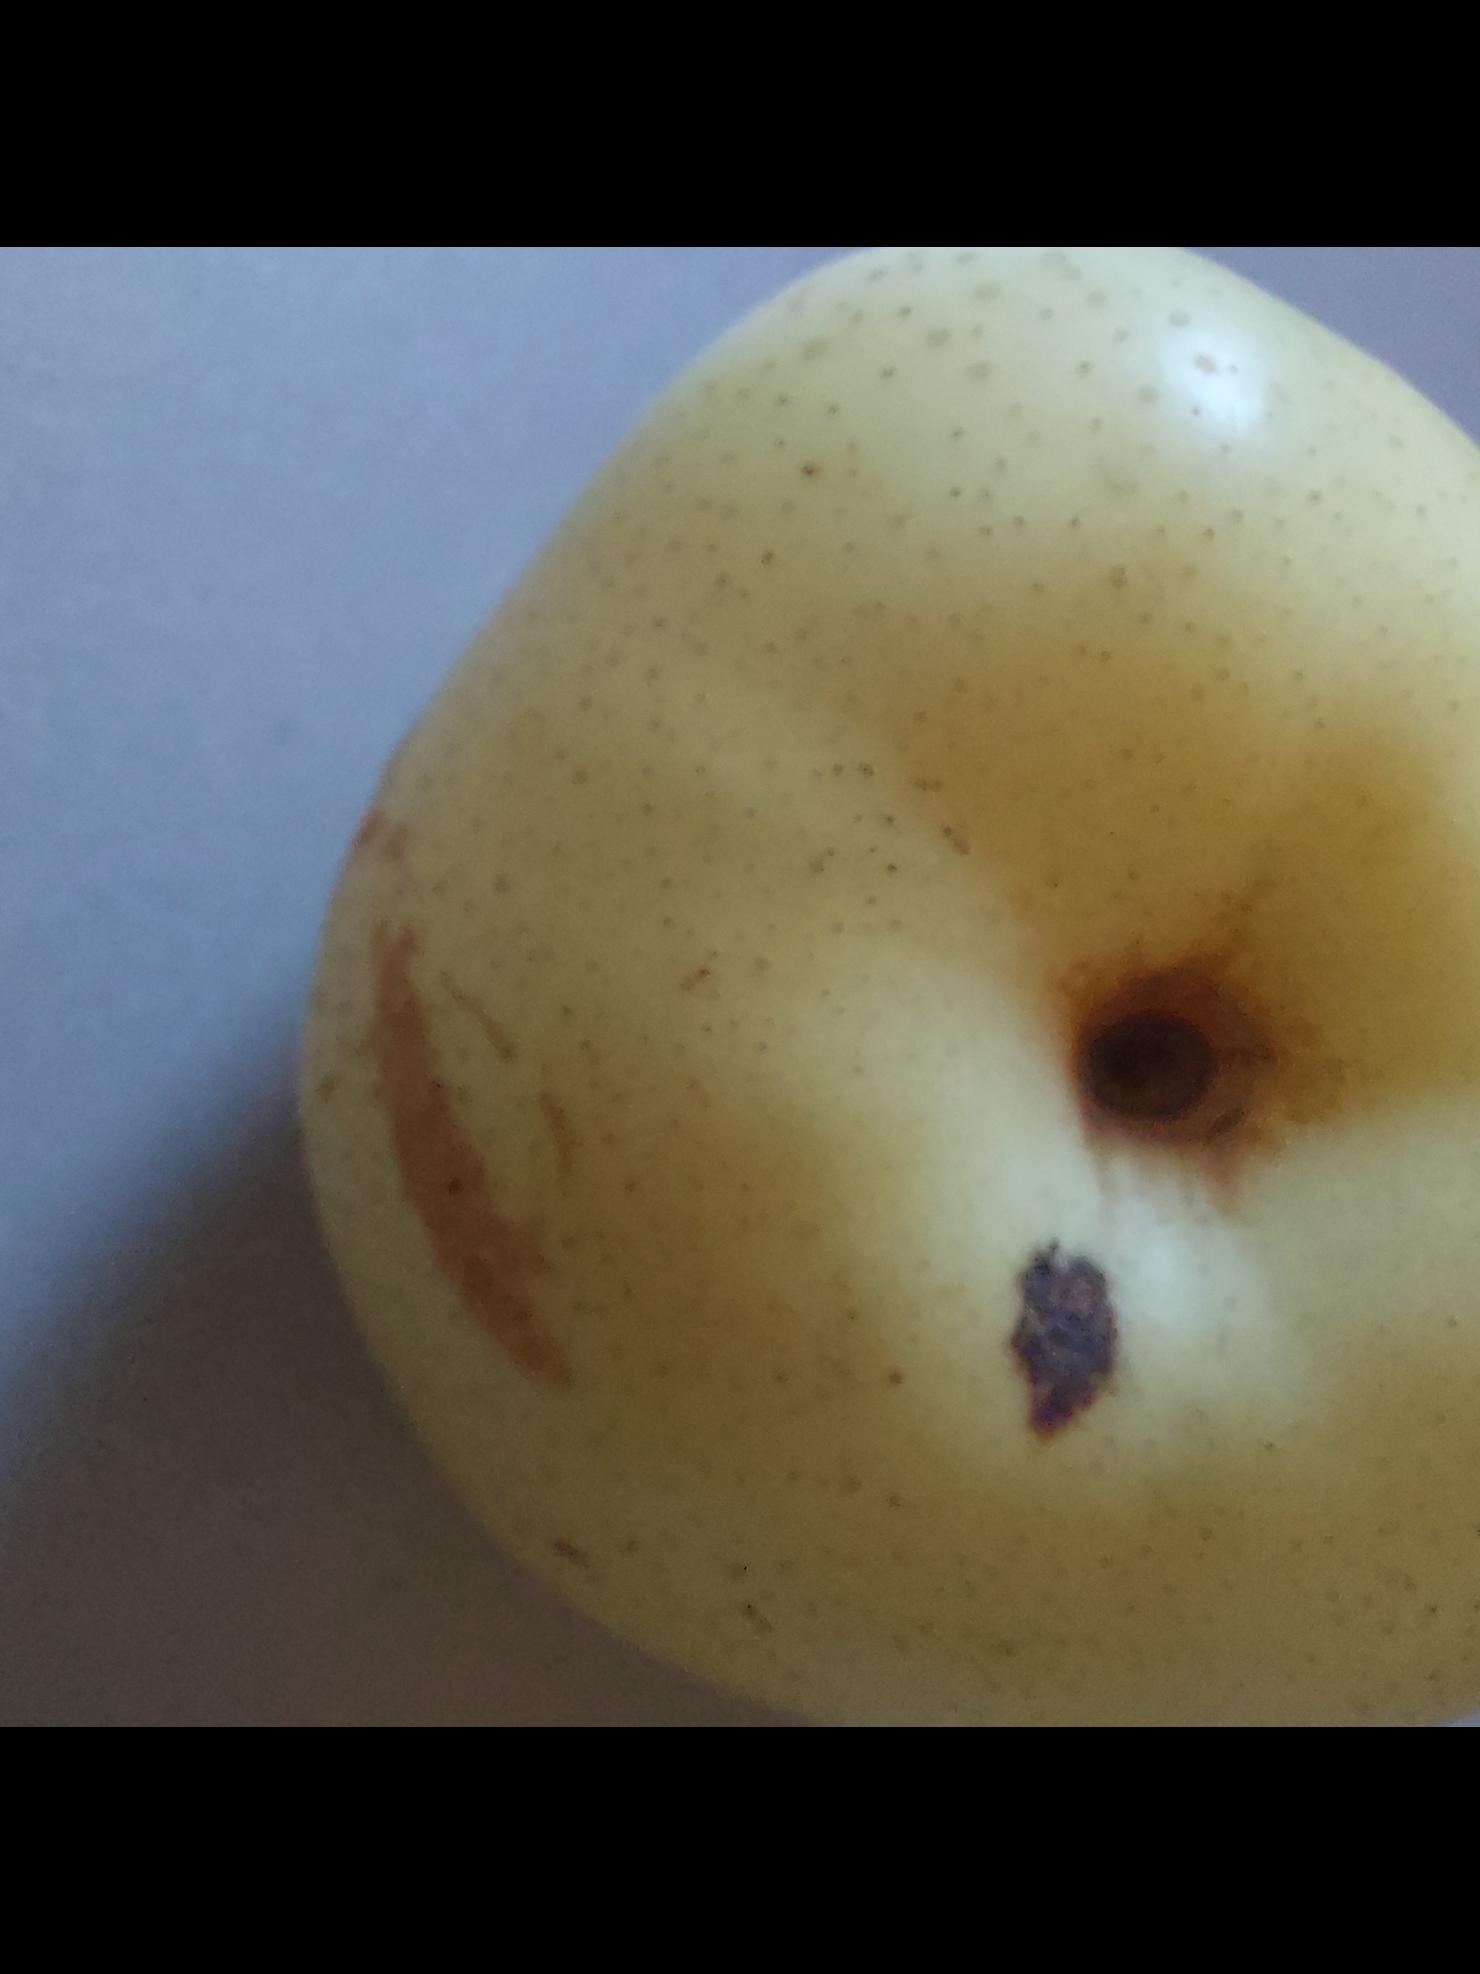Good Pear: (202, 247, 1480, 1727)
